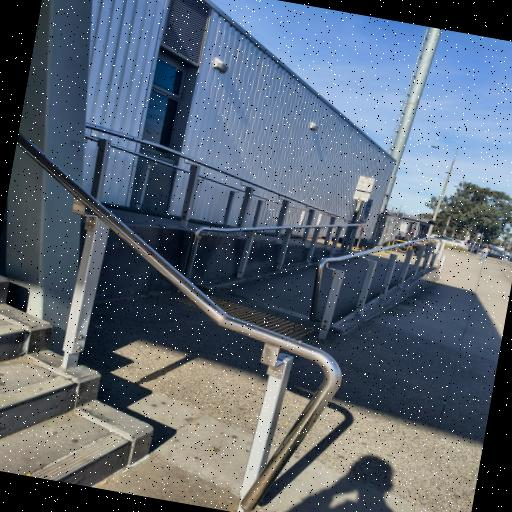ramp: (218, 243, 418, 327)
